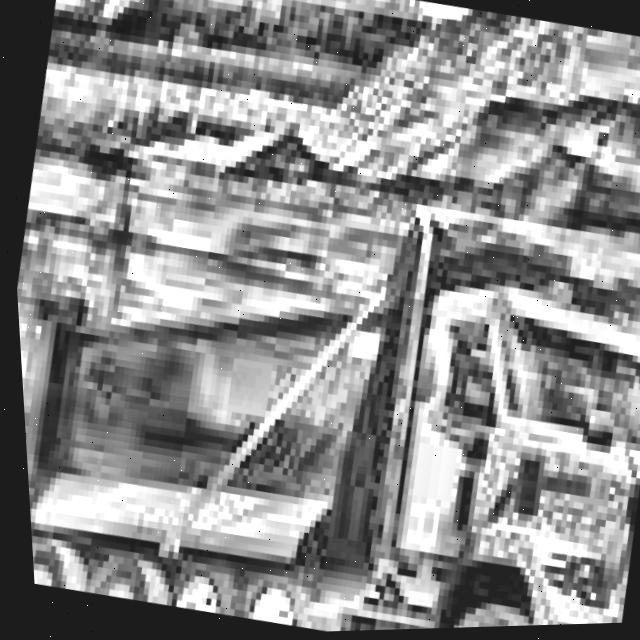dump_truck: (7, 128, 640, 640)
